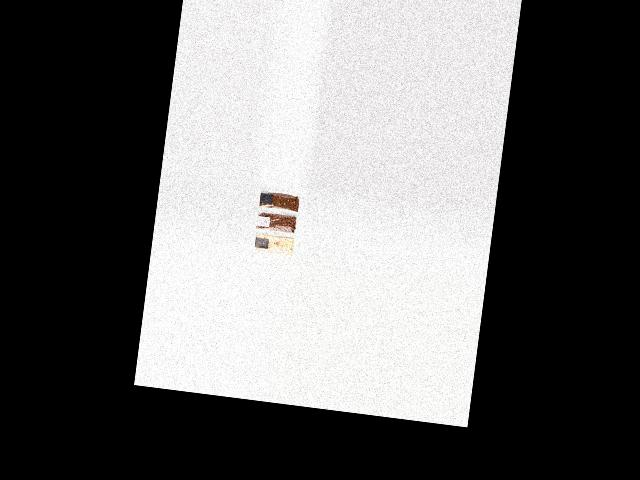chocolate: (259, 187, 302, 211)
